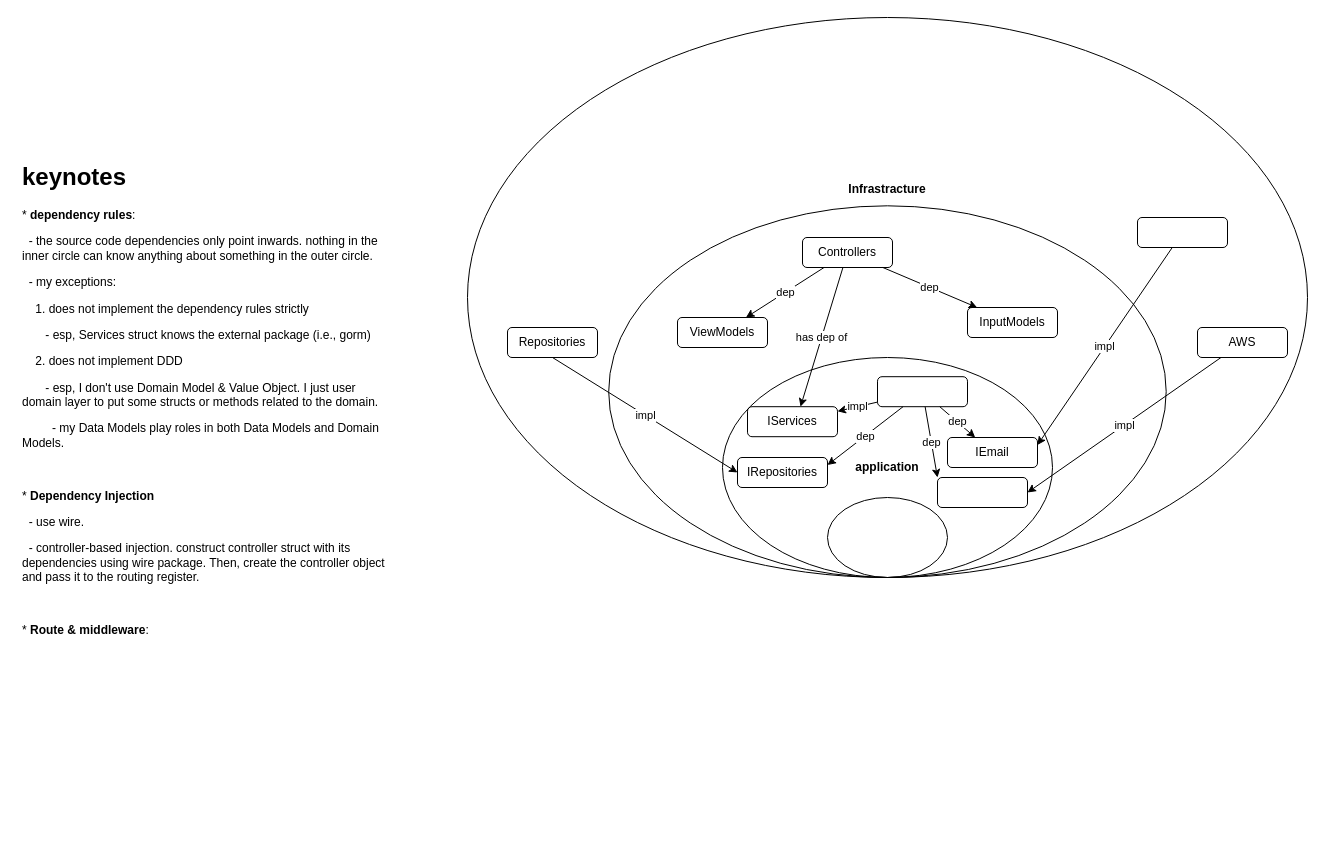
Image size: 1325x845. Some labels were removed from this diagram. Each missing label, with the box of its shape:
domain: (826, 496, 948, 578)
Email: (1136, 216, 1228, 248)
IAWS: (936, 476, 1028, 508)
Services: (876, 376, 968, 407)
UI: (608, 205, 1166, 578)
